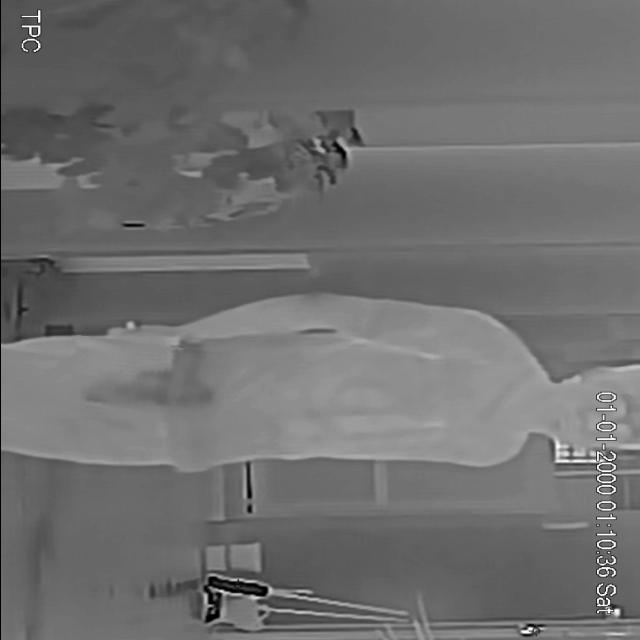Weapon: (68, 340, 227, 424)
